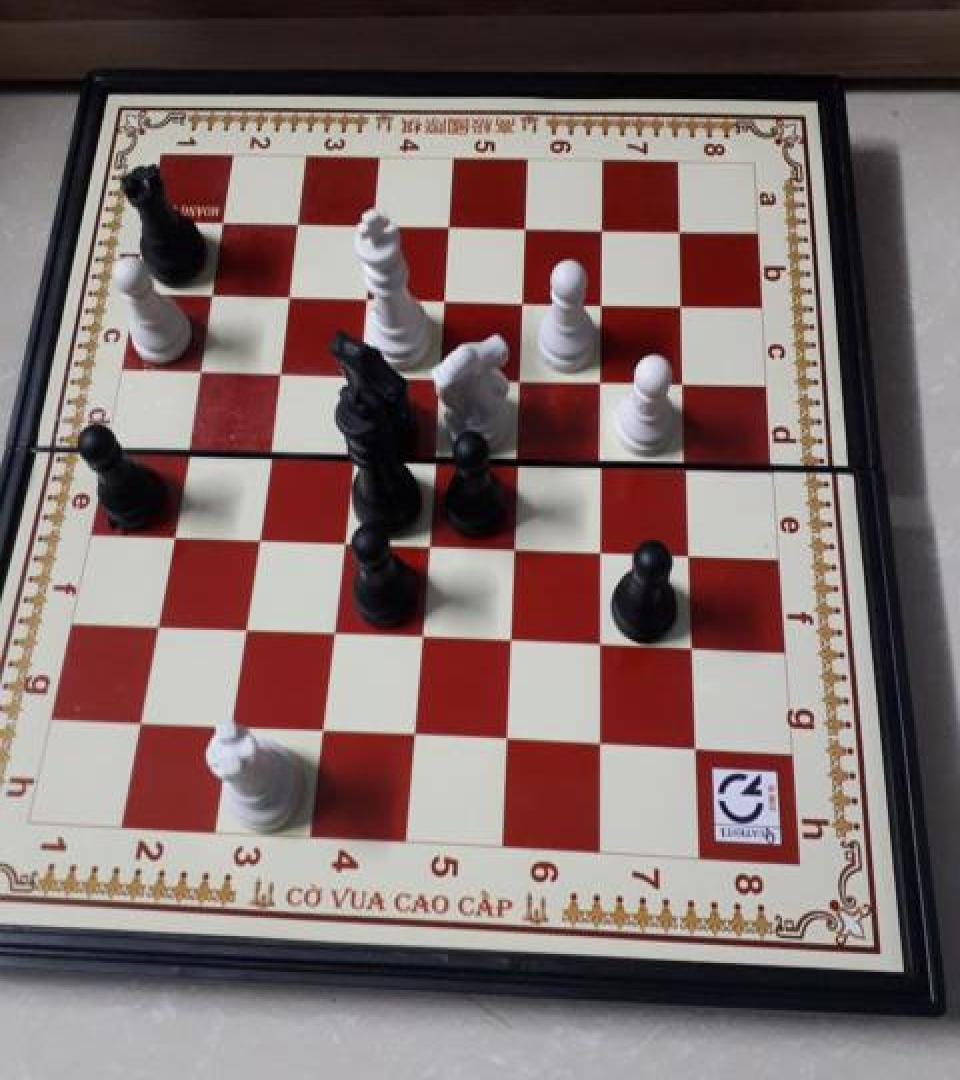xcorner: (403, 617, 435, 654), (226, 608, 258, 645), (677, 732, 709, 769), (663, 215, 695, 251), (509, 212, 541, 248), (433, 209, 465, 245), (357, 207, 389, 243), (283, 206, 315, 242), (208, 204, 240, 240), (665, 287, 697, 323), (585, 284, 617, 320), (506, 282, 538, 318), (428, 280, 460, 316), (350, 278, 382, 314), (273, 276, 305, 312), (196, 274, 228, 310), (667, 364, 699, 400), (585, 362, 617, 398), (503, 359, 535, 395), (422, 356, 454, 392), (342, 354, 374, 390), (262, 351, 294, 387), (183, 349, 215, 385), (669, 448, 701, 484), (584, 444, 616, 480), (500, 441, 532, 477), (416, 438, 448, 474), (333, 434, 365, 470), (251, 432, 283, 468), (170, 428, 202, 464), (672, 536, 704, 572), (584, 532, 616, 568), (496, 529, 528, 565), (410, 524, 442, 560), (324, 521, 356, 557), (239, 518, 271, 554), (155, 514, 187, 550), (674, 630, 706, 666), (583, 626, 615, 662), (492, 622, 524, 658), (314, 613, 346, 649), (139, 605, 171, 641), (582, 727, 614, 763), (488, 722, 520, 758), (395, 718, 427, 754), (303, 712, 335, 748), (212, 708, 244, 744), (122, 703, 154, 739), (586, 213, 618, 248)
